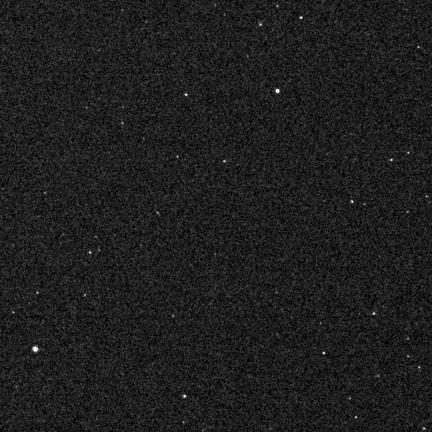blob: (33, 346, 38, 352), (276, 89, 280, 94), (185, 93, 188, 97), (183, 395, 186, 398), (300, 17, 303, 20)
